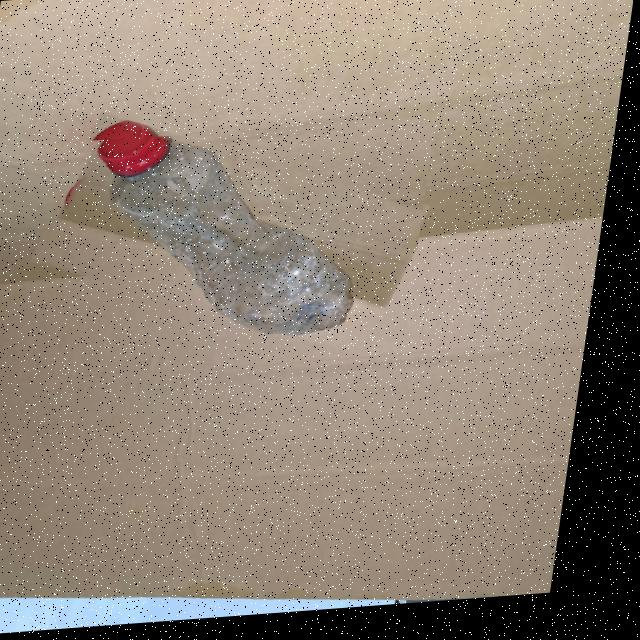plasticbottle: (33, 120, 440, 353)
